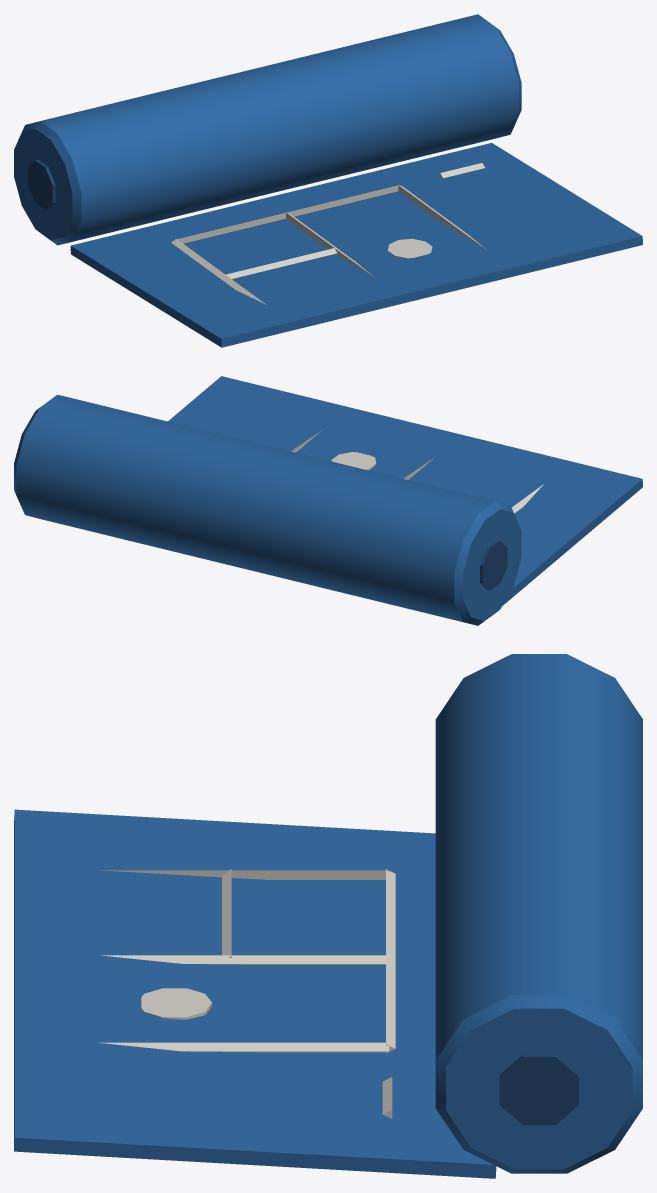
The model's file is 106_plan_maison.fbx.
The picture shows the model from 3 angles, top to bottom: view 1: azimuth 30°, elevation 25°; view 2: azimuth 150°, elevation 25°; view 3: azimuth 270°, elevation 25°; orthographic projection. The views are drawn at different scales.
Visible parts, largest first — view 1: Plan; view 2: Plan; view 3: Plan.
Boxes of the visible parts, left/top/right/bottom form: Plan: left=14, top=14, right=642, bottom=347; Plan: left=14, top=376, right=642, bottom=625; Plan: left=14, top=654, right=642, bottom=1178.
Bounding box in the file's own units: 0.448 × 0.112 × 0.336.
Materials: 1 (1 with a texture image).
